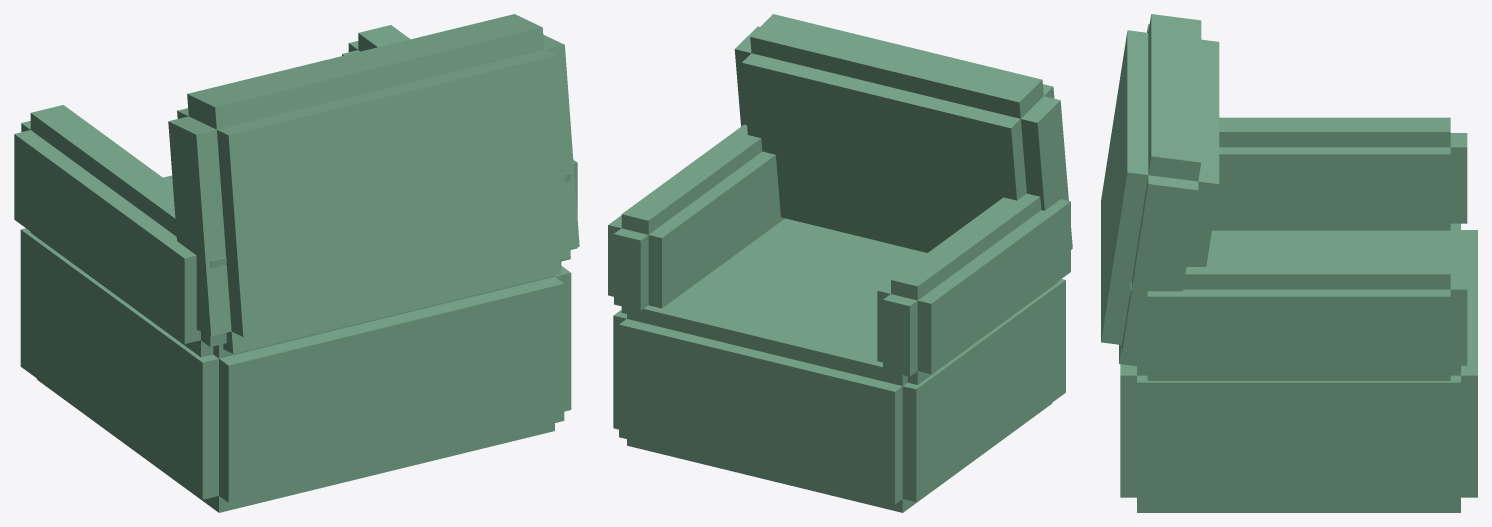
File: armchair.glb
3 views of the same model, side by side, from view 1: azimuth 30°, elevation 25°; view 2: azimuth 150°, elevation 25°; view 3: azimuth 270°, elevation 25° (orthographic). The views are drawn at different scales.
Parts seen in each view (by area): view 1: armchair; view 2: armchair; view 3: armchair.
Boxes of the visible parts, x1,y1,x2,y2 form: armchair: (14, 14, 579, 512); armchair: (608, 14, 1072, 512); armchair: (1101, 14, 1477, 512).
Size of the model in its own units: 0.96 by 0.9307 by 0.8952.
